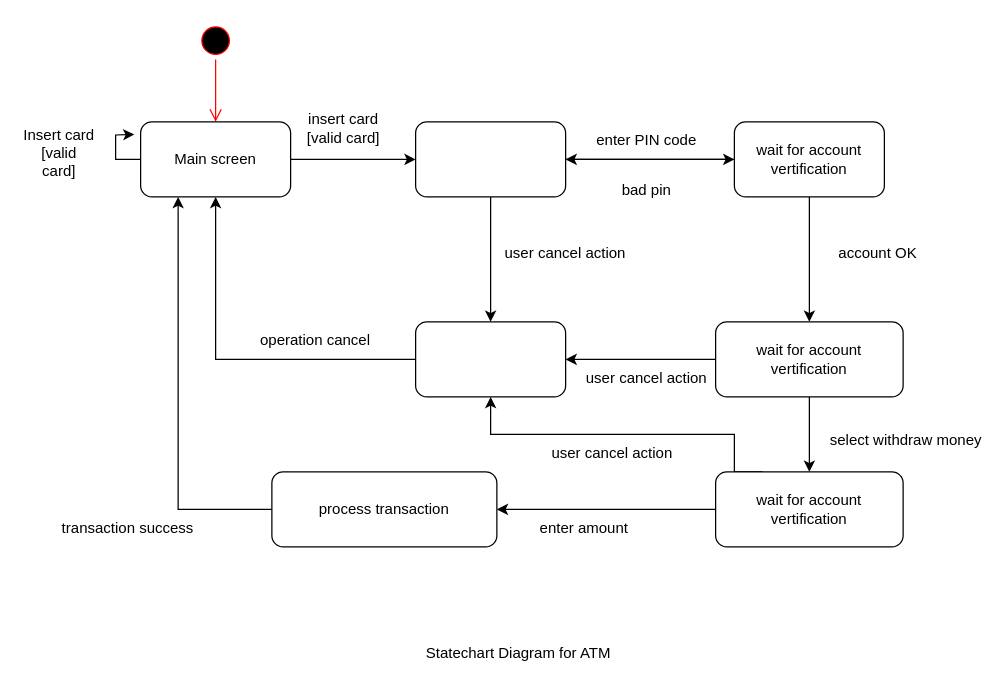
This 1005x694 diagram has some shape labels left out. Each missing label, with the centre of its shape:
"Cancel" belongs at (490,359).
"Wait for PIN" belongs at (490,159).
